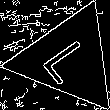L_NE: (37, 31, 100, 86)
